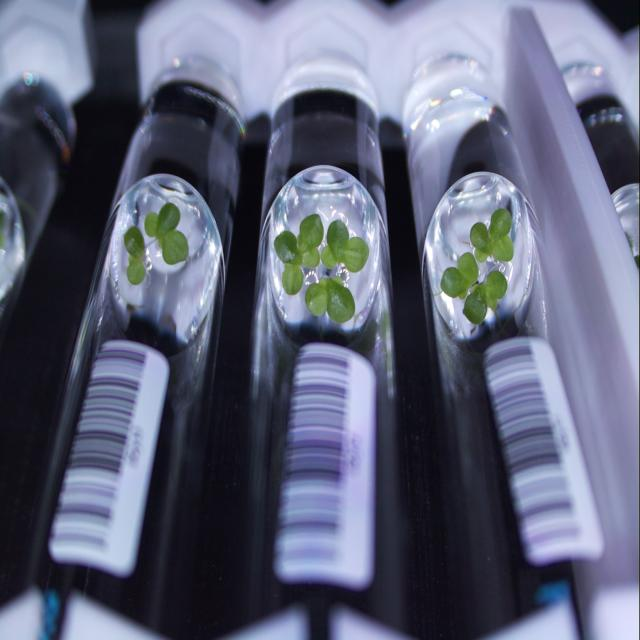Lemna-Gibba: (274, 213, 324, 295), (145, 202, 189, 265), (320, 220, 369, 272), (464, 270, 508, 325), (470, 208, 514, 262), (305, 277, 355, 324), (440, 252, 479, 299), (124, 225, 145, 285)
